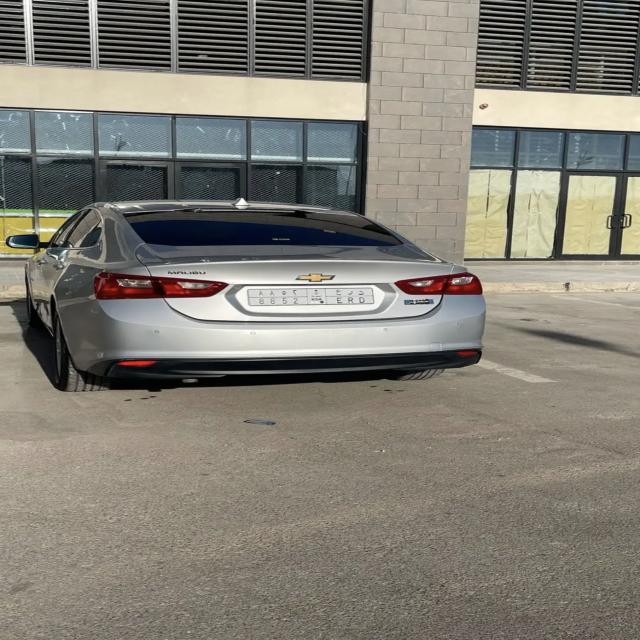license_plate: (246, 288, 378, 306)
